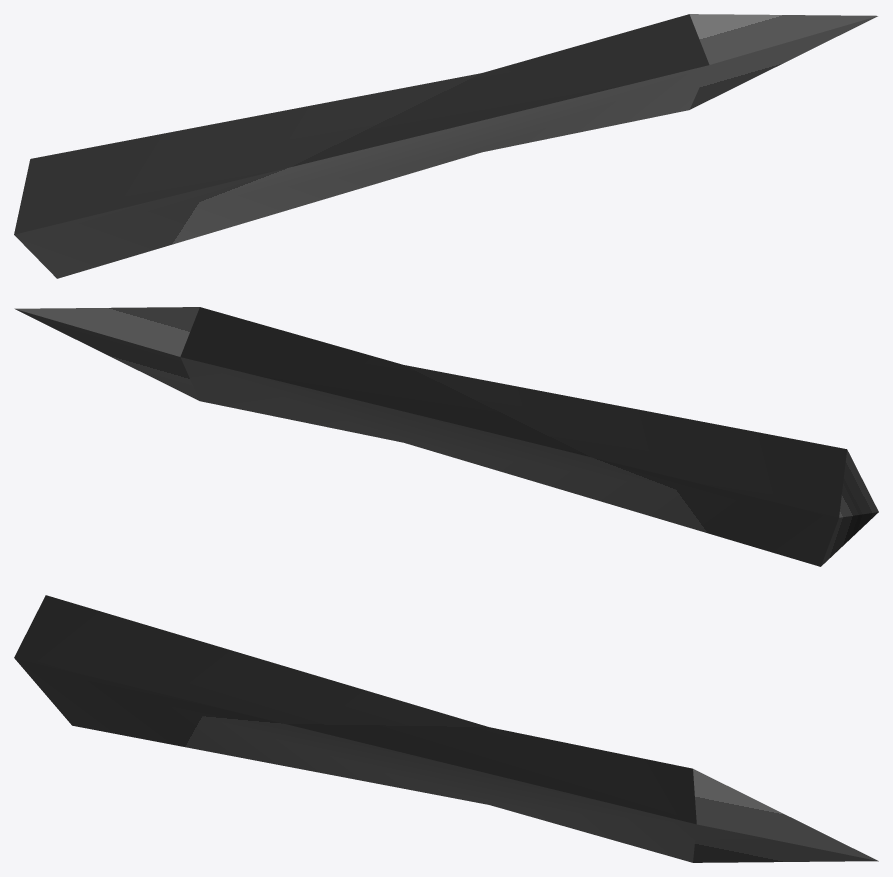
Rendered from long_sword_blade_model.obj.
3 views of the same model, one above another, from view 1: azimuth 30°, elevation 25°; view 2: azimuth 150°, elevation 25°; view 3: azimuth 330°, elevation 25° (orthographic).
Parts seen in each view (by area): view 1: nodes_2__meshes[0]; view 2: nodes_2__meshes[0]; view 3: nodes_2__meshes[0].
Part boxes in pixels (x1,y1,x2,y2): nodes_2__meshes[0]: (14, 14, 877, 278); nodes_2__meshes[0]: (14, 307, 878, 566); nodes_2__meshes[0]: (14, 595, 878, 862).
Bounding box in the file's own units: 4377 × 606 × 140.
